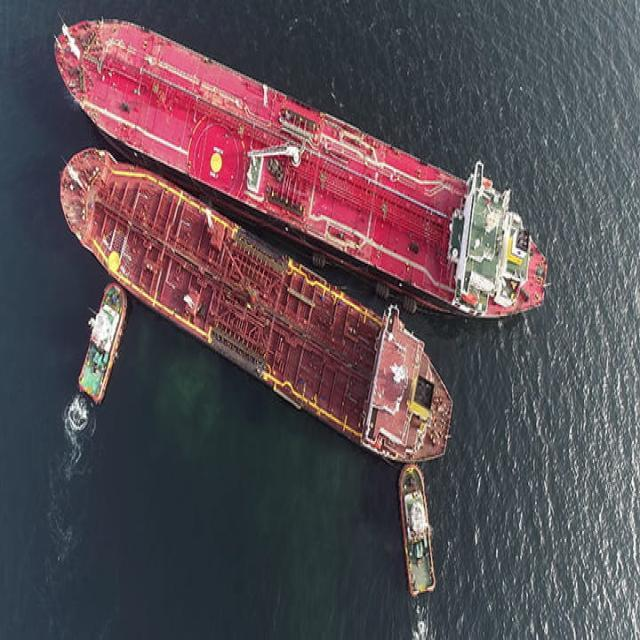ship2: (54, 21, 546, 319), (59, 149, 453, 467)
